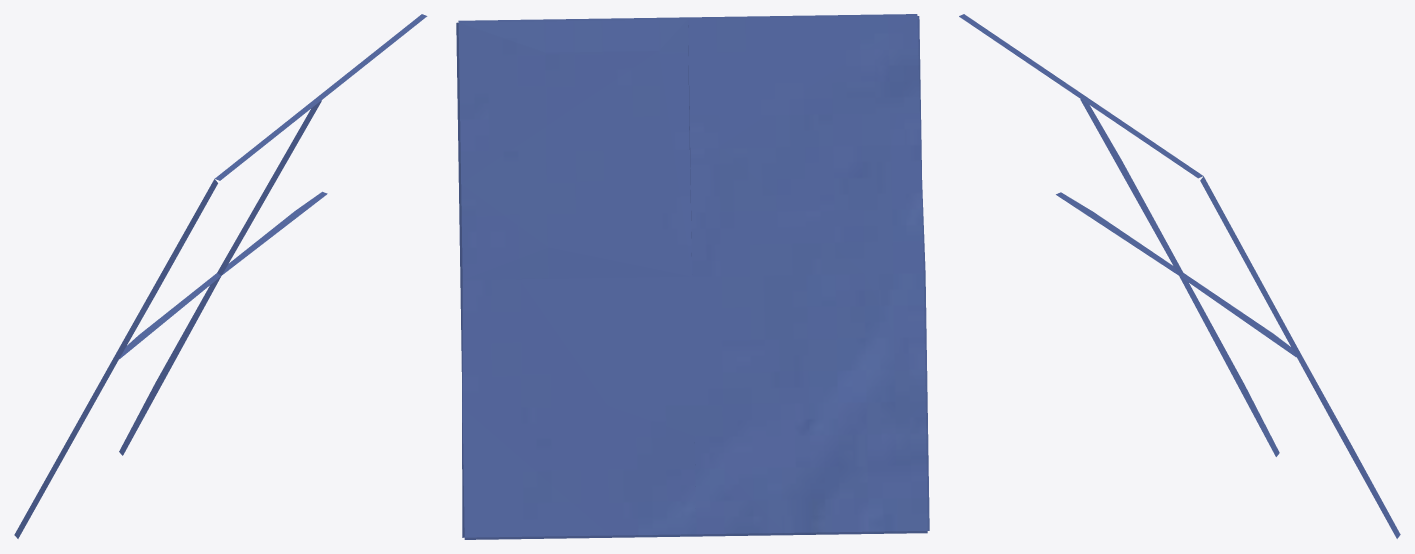
The picture shows the model from 3 angles, left to right: view 1: azimuth 30°, elevation 25°; view 2: azimuth 150°, elevation 25°; view 3: azimuth 270°, elevation 25°; orthographic projection. The views are drawn at different scales.
Bounding box in the file's own units: 78985 × 70395 × 68195.
1 material, 1 textured.
